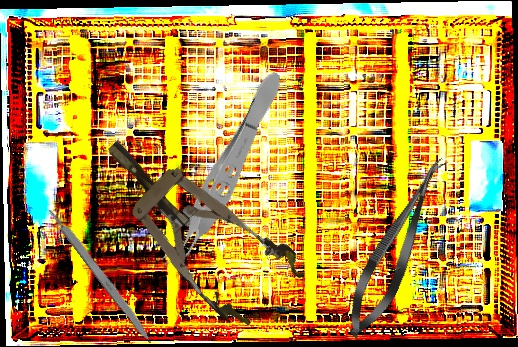Micro Scissor: (334, 148, 459, 346)
Scalpel Handle: (46, 205, 157, 346)
Speculum: (79, 109, 311, 338)
Tissue Forceps: (156, 64, 293, 278)
